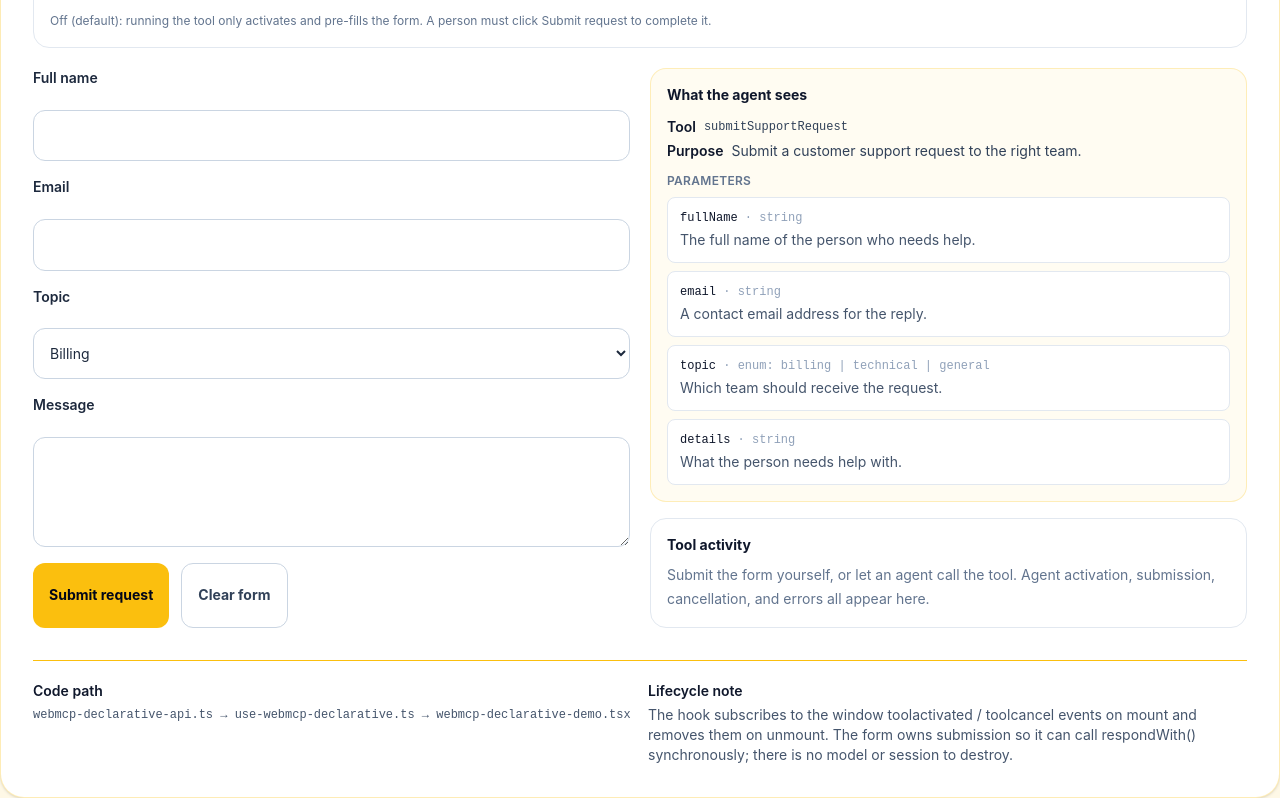
WebmcpDeclarativeDemo › shows a validation error instead of submitting empty fields
The width and height of the screenshot is (1280, 798).
(page scrolled)
What coordinates should you click on to do the following:
click the button "Submit request"
I would click on:
 (101, 595)
Its box is 33,563 -> 169,628.
(page scrolled)
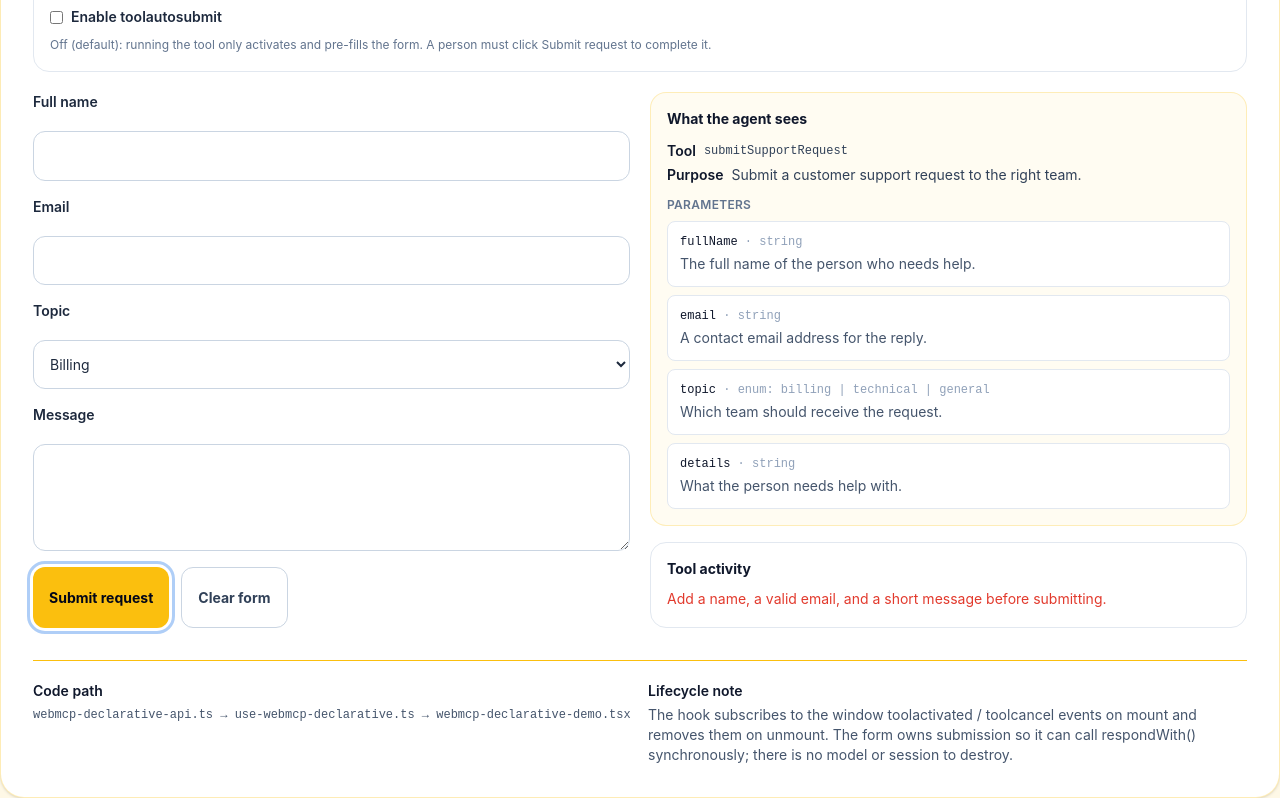
Expected: the text "Add a name, a valid email, and a short message" is shown, 667,590 -> 1106,607
